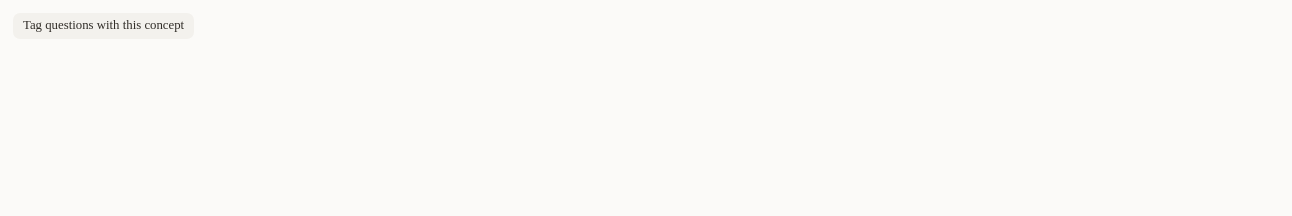
Test: TagQuestions › does not offer a question the concept already carries
The width and height of the screenshot is (1292, 216).
Step 1. Click the button "Tag questions with this concept" → (104, 26), box x1=12 y1=12 x2=195 y2=40
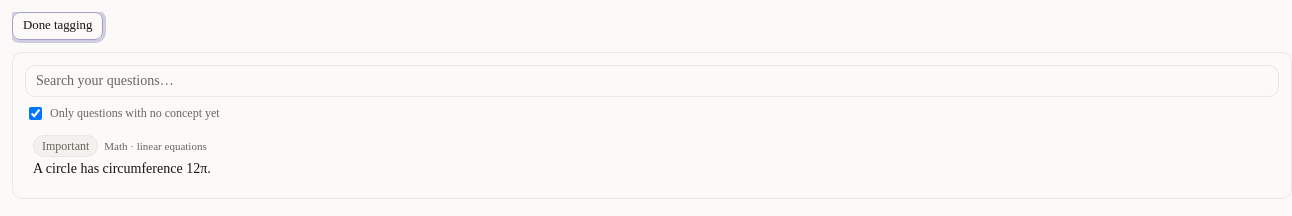
expect the button "circumference 12" is shown: met, box x1=25 y1=129 x2=1279 y2=185
